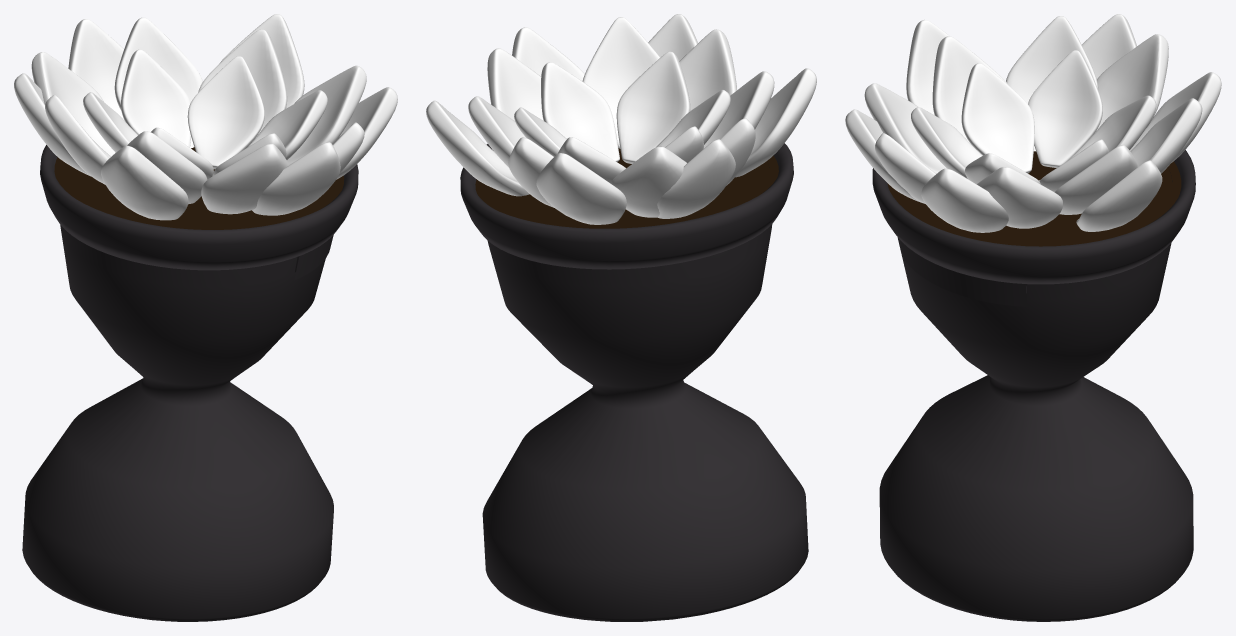
File: asset2.glb
3 renders of one model, left to right at view 1: azimuth 30°, elevation 25°; view 2: azimuth 150°, elevation 25°; view 3: azimuth 270°, elevation 25°, orthographic.
Visible parts, largest first — view 1: Pot, Pot.001, Cube.008, Cube.007, Cube.012, Cube.013, Cube.005, Cube.009, Dirt, Cube.006; view 2: Pot, Pot.001, Cube.012, Cube.007, Cube.008, Cube.006, Cube.005, Dirt, Cube.009, Cube.013; view 3: Pot, Pot.001, Cube.008, Cube.012, Cube.007, Cube.013, Cube.006, Cube.009, Cube.005, Dirt.
Boxes of the visible parts, box(x1,y1,x2,y2) form: Pot: box(22, 225, 333, 621); Pot.001: box(40, 145, 358, 280); Cube.008: box(45, 17, 366, 214); Cube.007: box(14, 19, 397, 215); Cube.012: box(83, 49, 327, 175); Cube.013: box(151, 56, 264, 179); Cube.005: box(101, 14, 304, 220); Cube.009: box(127, 29, 287, 204); Dirt: box(54, 147, 344, 229); Cube.006: box(31, 52, 364, 173); Pot: box(482, 161, 808, 621); Pot.001: box(460, 143, 793, 269); Cube.012: box(541, 51, 703, 183); Cube.007: box(512, 14, 735, 224); Cube.008: box(487, 29, 755, 207); Cube.006: box(582, 17, 686, 217); Cube.005: box(426, 68, 816, 196); Dirt: box(475, 148, 778, 228); Cube.009: box(468, 71, 774, 167); Cube.013: box(514, 90, 730, 156); Pot: box(879, 167, 1193, 621); Pot.001: box(872, 150, 1195, 306); Cube.008: box(864, 16, 1202, 228); Cube.012: box(911, 50, 1156, 184); Cube.007: box(845, 14, 1221, 232); Cube.013: box(961, 63, 1108, 192); Cube.006: box(875, 34, 1168, 203); Cube.009: box(932, 36, 1137, 214); Cube.005: box(906, 19, 1162, 231); Dirt: box(887, 151, 1181, 246).
Bounding box in the file's own units: 0.8793 × 1.32 × 0.9187.
